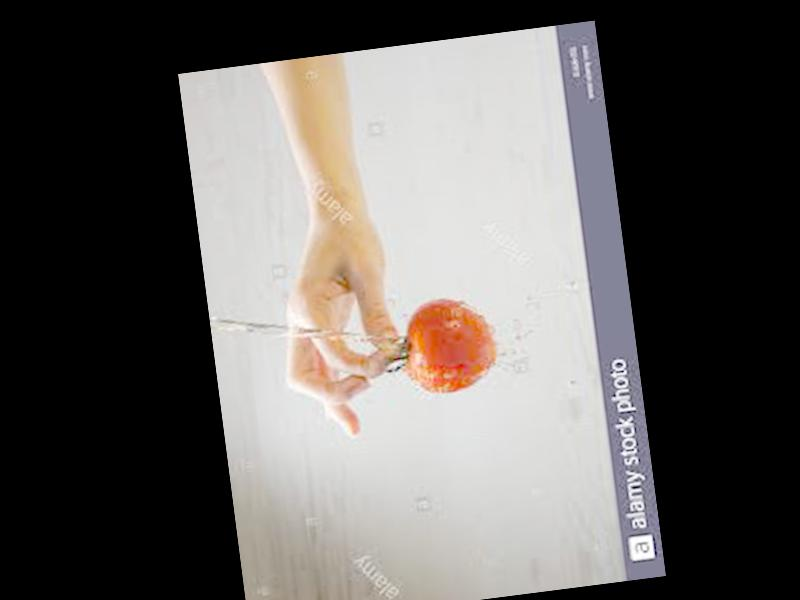Tomato: (399, 289, 502, 394)
